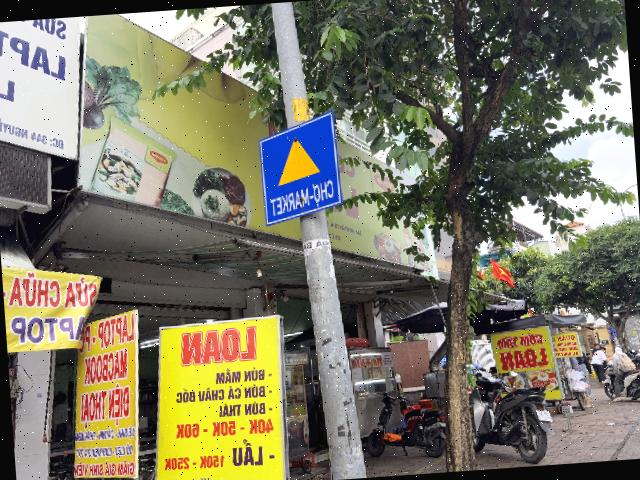khu-vuc-cho-phia-truoc: (257, 108, 343, 226)
